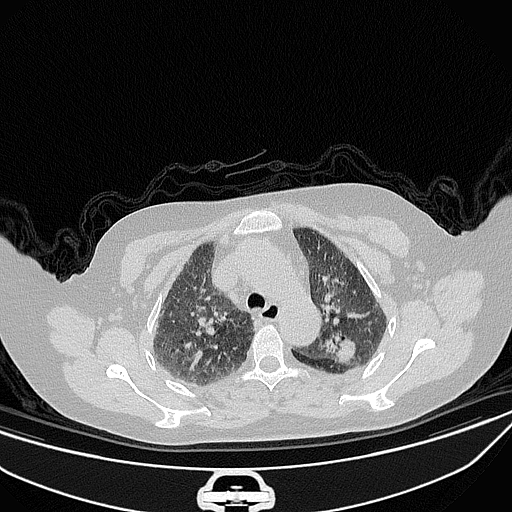nodule: (334, 339, 356, 364)
